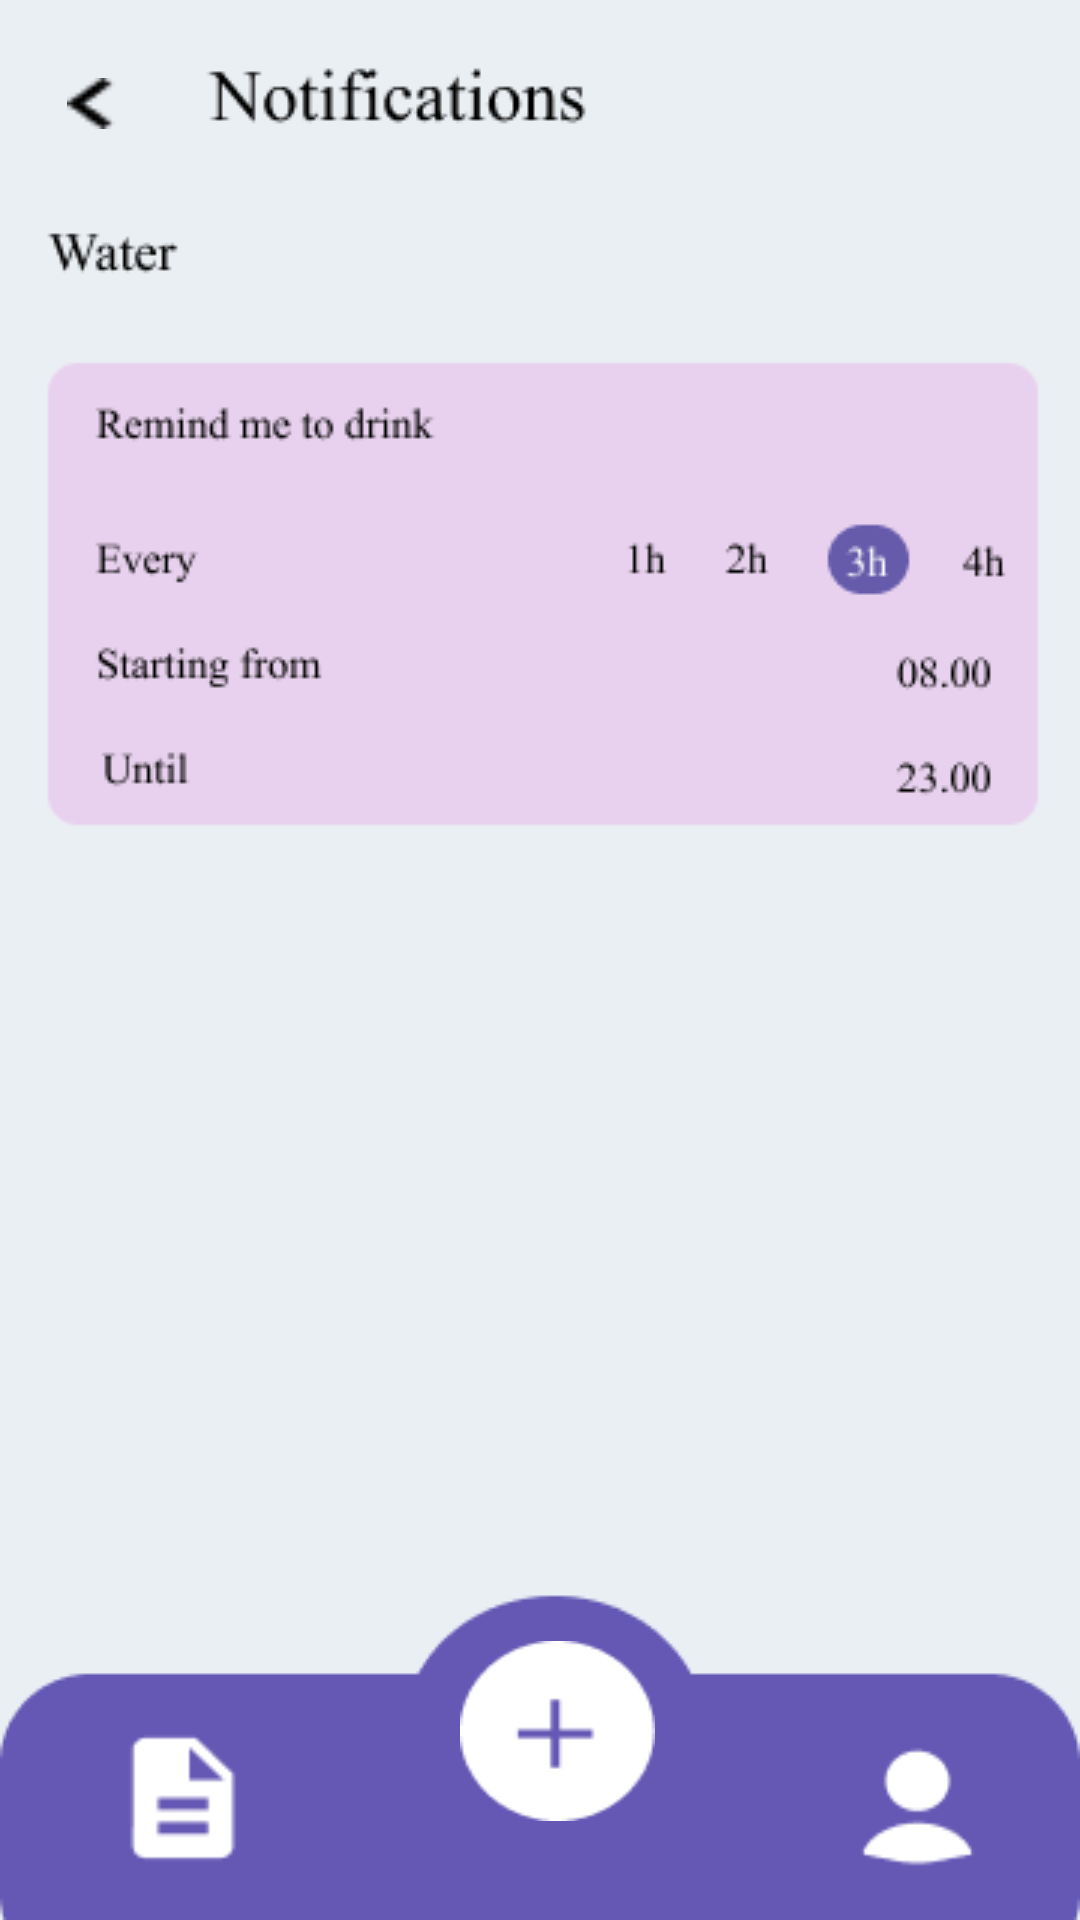

Screen size 1080×1920. Icon name, then its center in pixels as (x,y):
description: (182,1798)
plus: (557,1731)
user: (917,1807)
